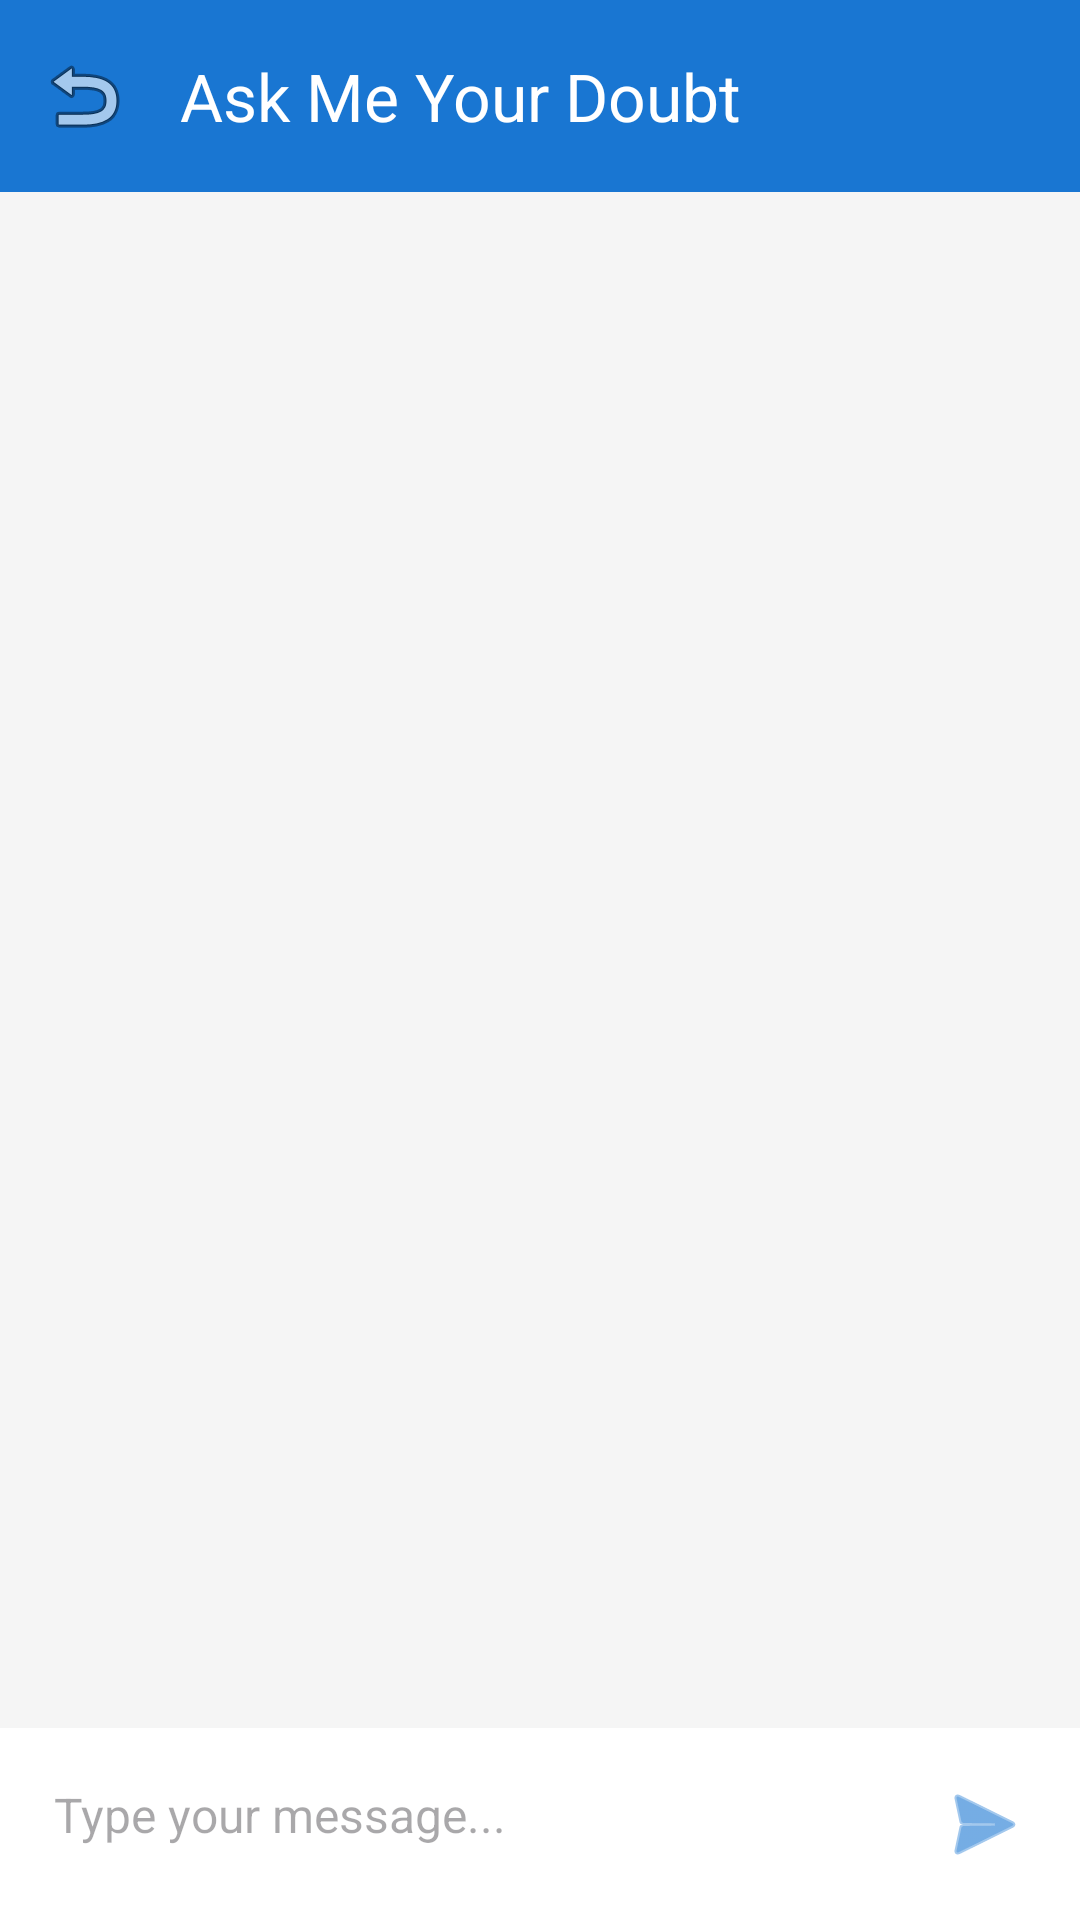

Icons on this 1080*1920 Android screen, each with the point to tap as (x=x, y=y):
Send message: (x=985, y=1824)
